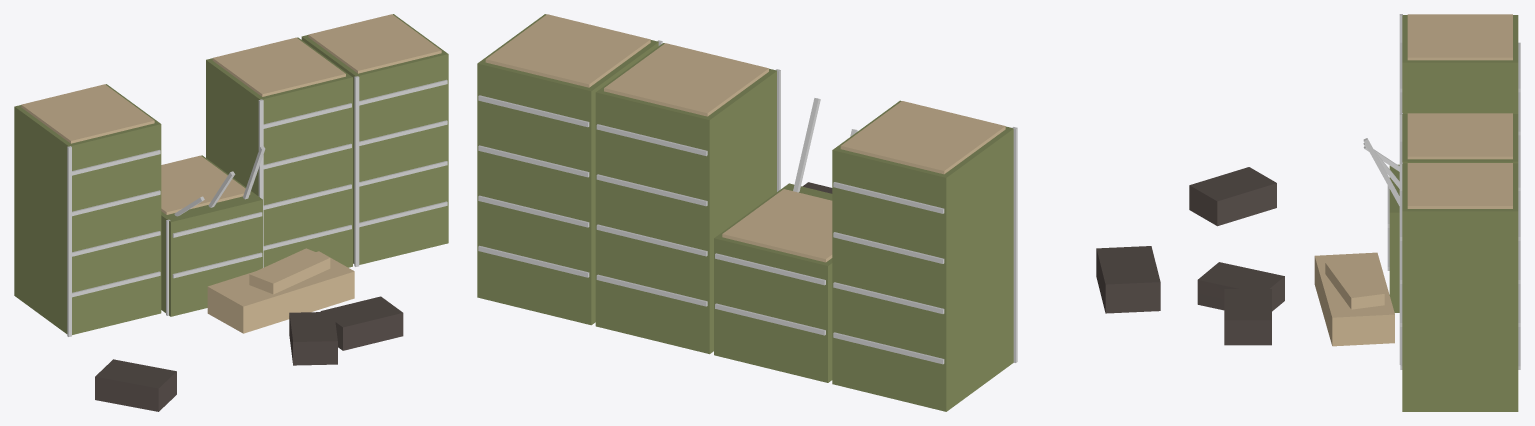
The model's file is SM_HescoCorto4_v0_MallaLimpia_e1_Danado_LOD0.fbx.
3 views of the same model, side by side, from view 1: azimuth 30°, elevation 25°; view 2: azimuth 150°, elevation 25°; view 3: azimuth 270°, elevation 25° (orthographic). The views are drawn at different scales.
Parts seen in each view (by area): view 1: SM_hesco_piezas_v101_LOD0; view 2: SM_hesco_piezas_v101_LOD0; view 3: SM_hesco_piezas_v101_LOD0.
Boxes of the visible parts, x1,y1,x2,y2 form: SM_hesco_piezas_v101_LOD0: (14, 14, 448, 411); SM_hesco_piezas_v101_LOD0: (477, 14, 1160, 411); SM_hesco_piezas_v101_LOD0: (1189, 14, 1520, 411).
Bounding box in the file's own units: 4.94 × 2.13 × 3.14.
